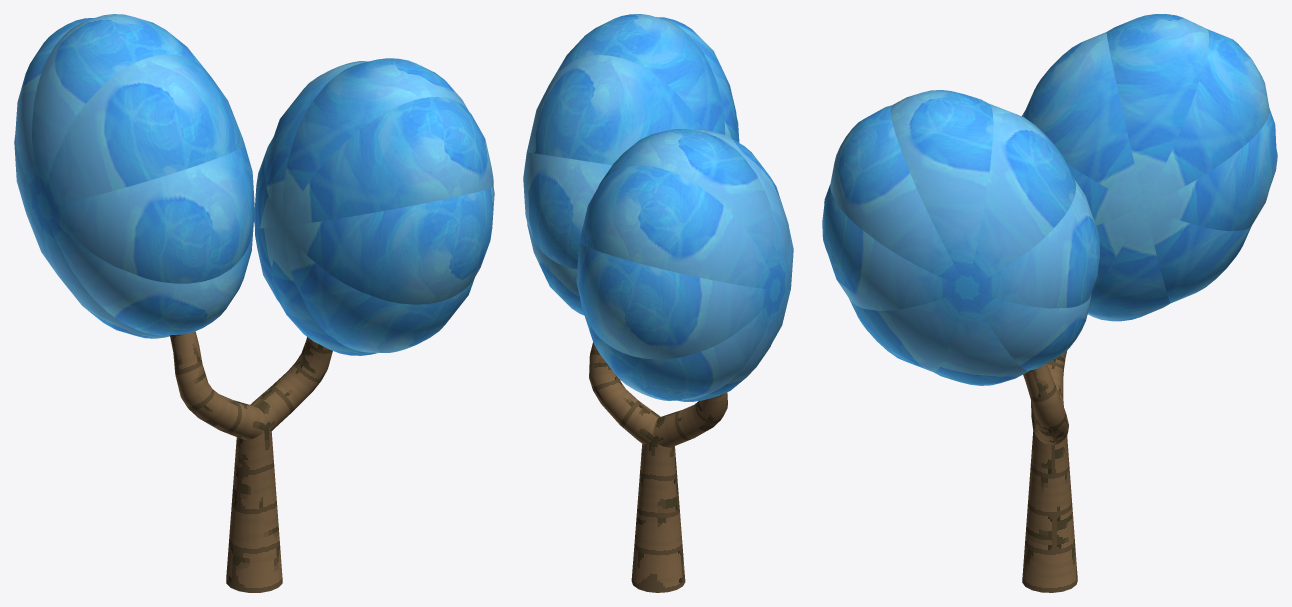
Rendered from tree1.obj.
The picture shows the model from 3 angles, left to right: view 1: azimuth 30°, elevation 25°; view 2: azimuth 150°, elevation 25°; view 3: azimuth 270°, elevation 25°; orthographic projection. The views are drawn at different scales.
Visible parts, largest first — view 1: Leaves.008_Leaves.004, Trunk.009_Trunk.004; view 2: Leaves.008_Leaves.004, Trunk.009_Trunk.004; view 3: Leaves.008_Leaves.004, Trunk.009_Trunk.004.
Part boxes in pixels (x1,y1,x2,y2): Leaves.008_Leaves.004: (14, 14, 494, 355); Trunk.009_Trunk.004: (170, 331, 332, 592); Leaves.008_Leaves.004: (523, 14, 793, 401); Trunk.009_Trunk.004: (589, 342, 727, 592); Leaves.008_Leaves.004: (822, 14, 1277, 385); Trunk.009_Trunk.004: (1022, 350, 1077, 592).
Size of the model in its own units: 5.35 by 8.15 by 6.43.
2 materials, 2 textured.
